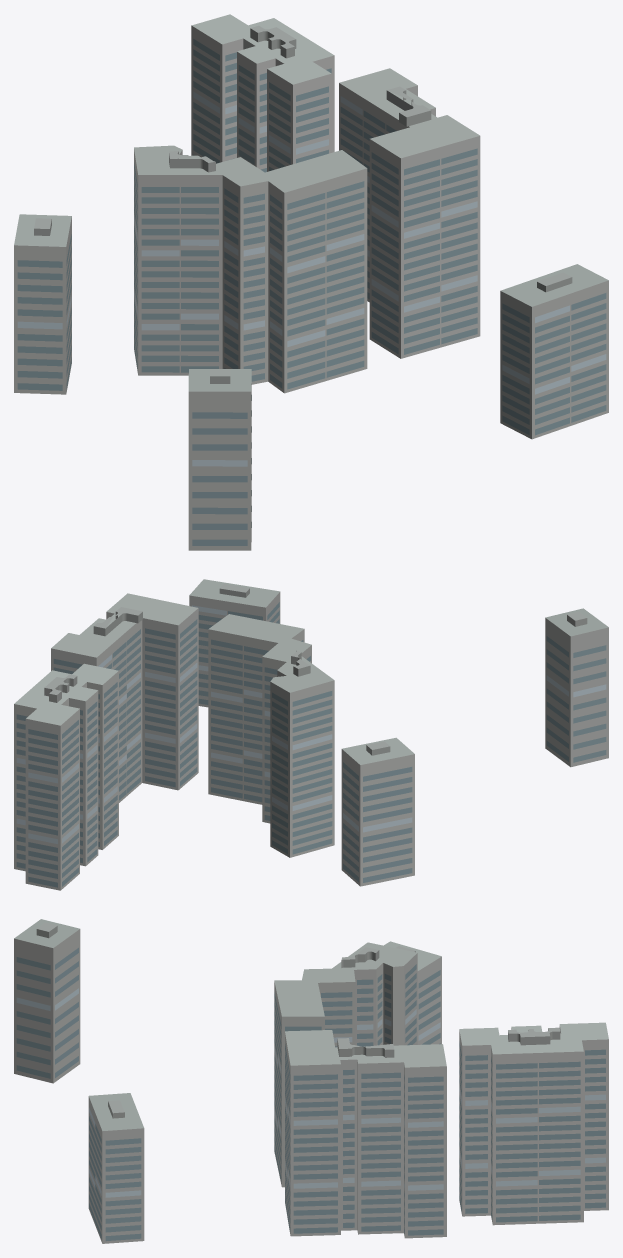
Rendered from apt-a15703002.glb.
The picture shows the model from 3 angles, top to bottom: view 1: azimuth 30°, elevation 25°; view 2: azimuth 150°, elevation 25°; view 3: azimuth 270°, elevation 25°; orthographic projection. The views are drawn at different scales.
Parts seen in each view (by area): view 1: apt-a15703002; view 2: apt-a15703002; view 3: apt-a15703002.
Boxes of the visible parts, <box> form: apt-a15703002: <box>14,14,608,550</box>; apt-a15703002: <box>14,579,608,890</box>; apt-a15703002: <box>14,919,608,1243</box>.
Size of the model in its own units: 121 by 53 by 160.
